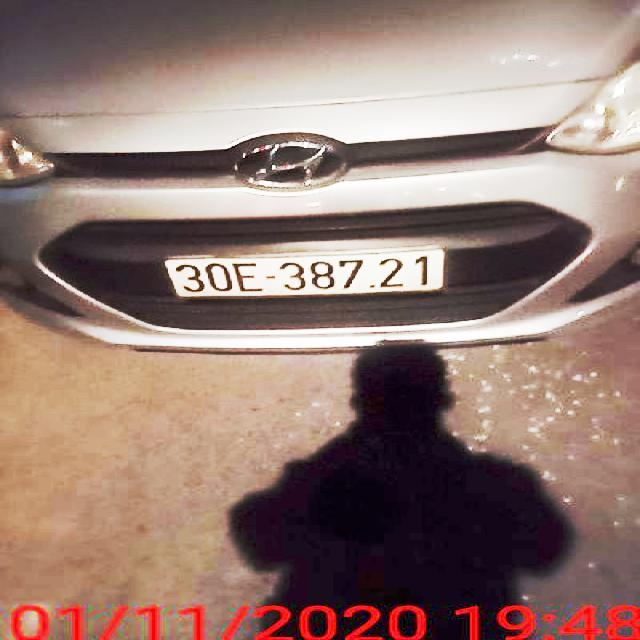license_plate: (171, 249, 443, 297)
